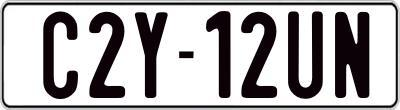1: (204, 9, 231, 101)
2: (238, 12, 278, 104), (87, 11, 124, 101)
C: (40, 12, 81, 103)
N: (332, 11, 371, 102)
U: (285, 11, 326, 103)
Y: (135, 9, 168, 96)
